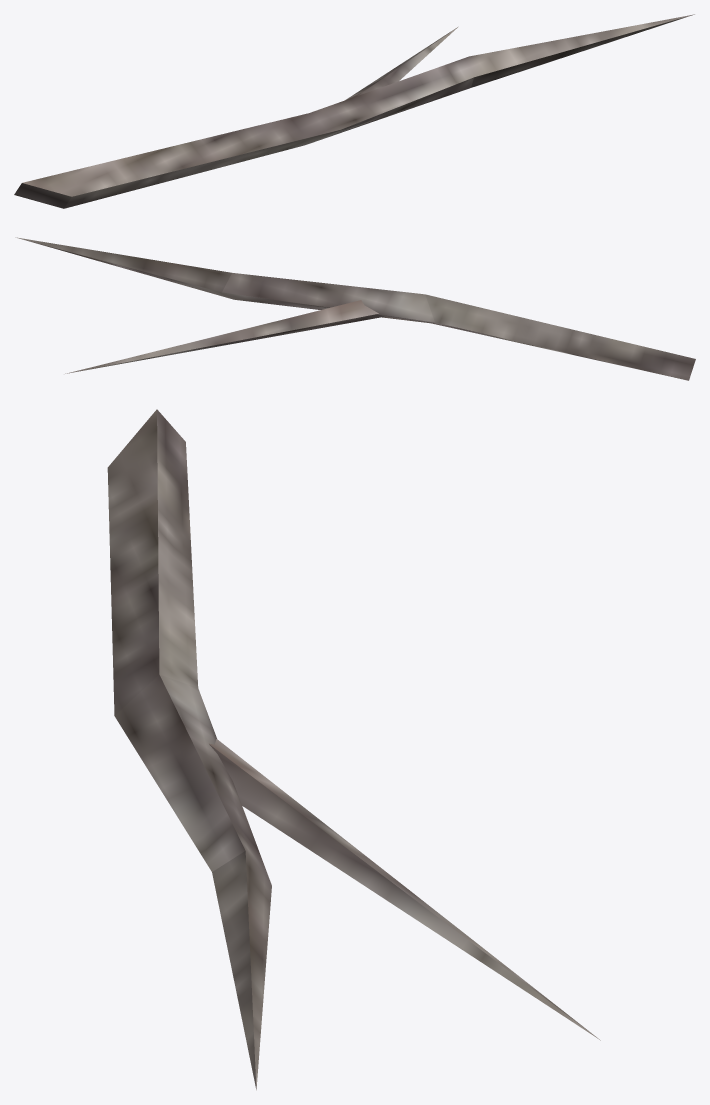
The model's file is branch_01.glb.
3 views of the same model, one above another, from view 1: azimuth 30°, elevation 25°; view 2: azimuth 150°, elevation 25°; view 3: azimuth 270°, elevation 25° (orthographic). The views are drawn at different scales.
Parts seen in each view (by area): view 1: branch_01; view 2: branch_01; view 3: branch_01.
Boxes of the visible parts, left/top/right/bottom form: branch_01: left=14, top=14, right=694, bottom=208; branch_01: left=15, top=237, right=695, bottom=380; branch_01: left=107, top=409, right=600, bottom=1090.
Size of the model in its own units: 0.6124 by 0.0547 by 0.1995.
1 material, 1 textured.
